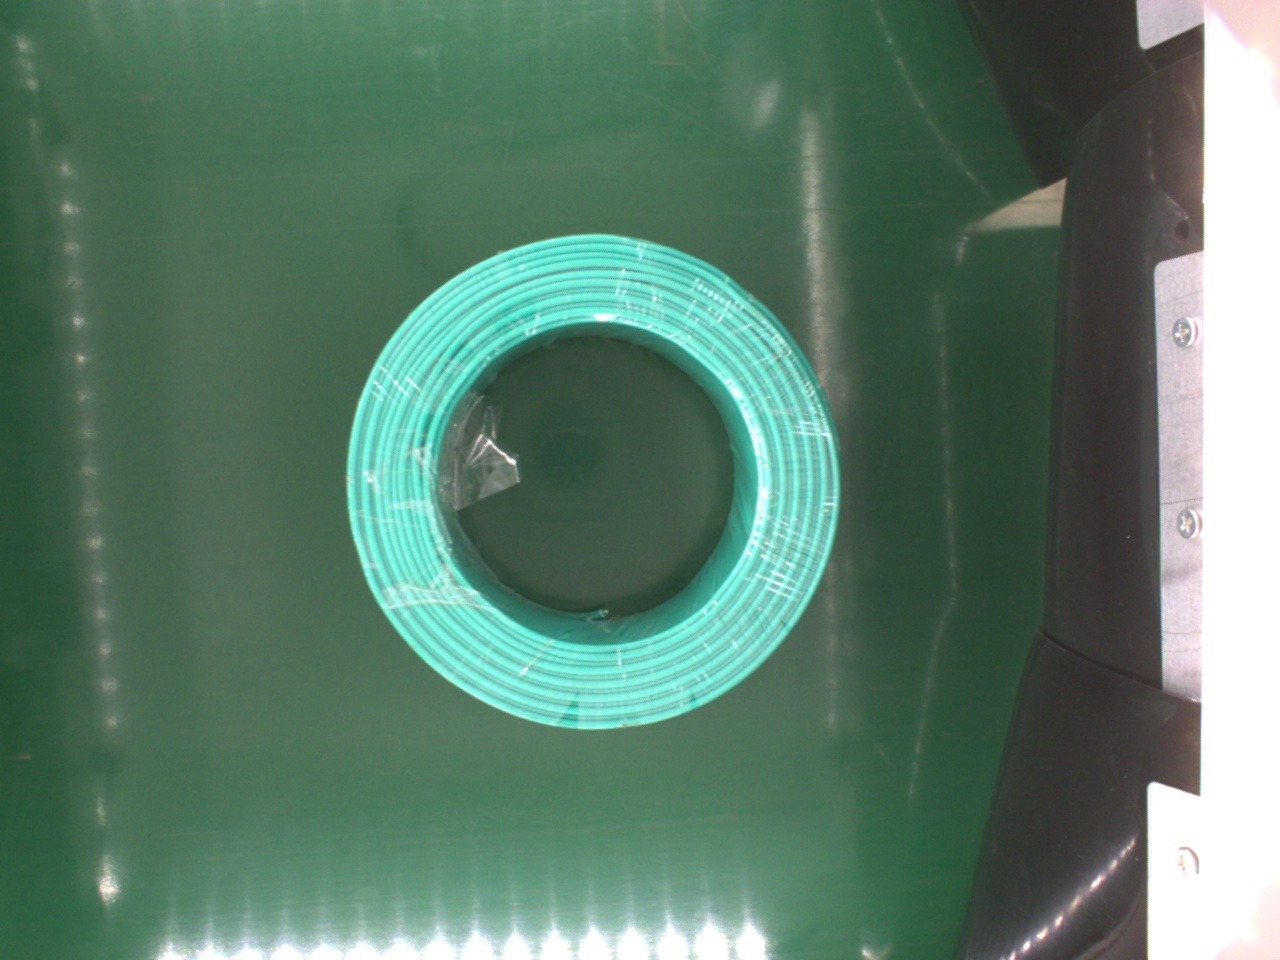green: (337, 230, 839, 733)
